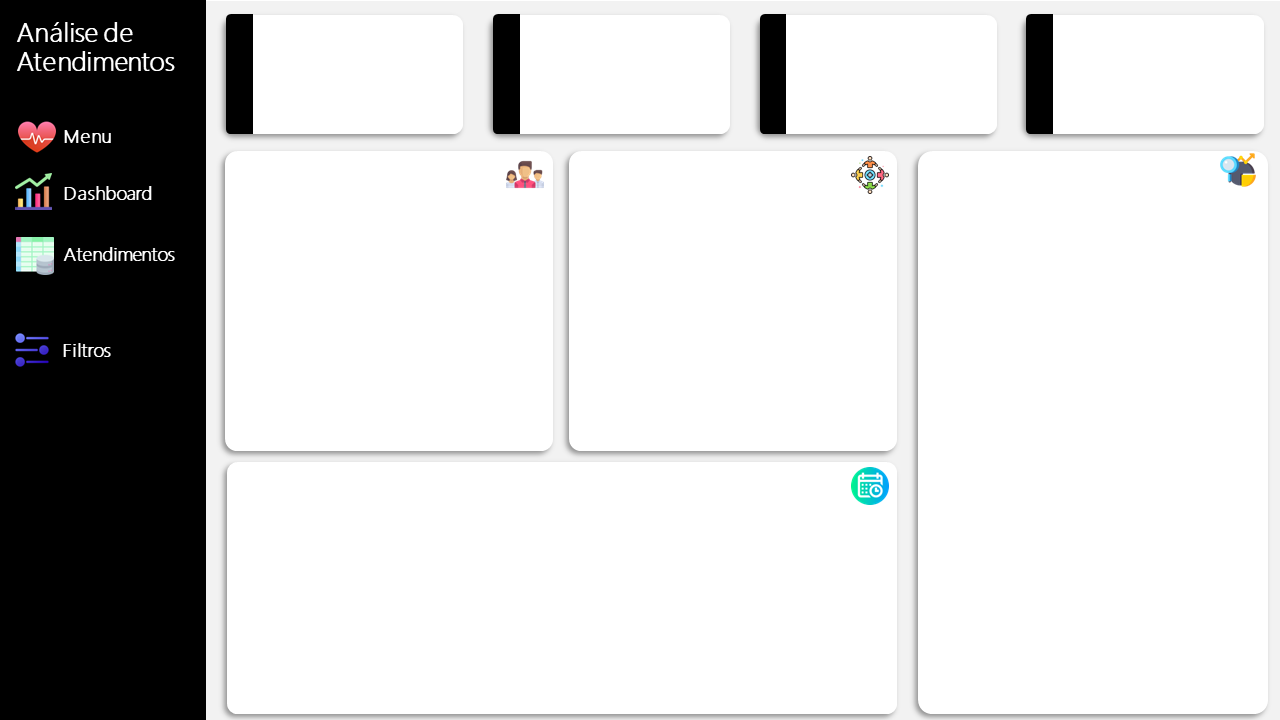

The dashboard page shown, as its layout file describes it:
{"tool":"powerbi","page":{"name":"Dashboards","canvas":[1280,720],"ordinal":1},"visuals":[{"type":"image","box":[15.7,0,1264.3,720],"z":0},{"type":"barChart","title":"Qtde Atendimentos por Médico","fields":{"Y":["Medida.Qtde Atendimentos"],"Category":["Médicos.Nome Médico"],"Series":["Tabela de Valores.Tipo pagamento"]},"box":[240,157.1,318.6,292.9],"z":1000},{"type":"card","title":"Total Atendimentos","fields":{"Values":["Medida.Qtde Atendimentos"]},"box":[264.3,22.9,211.4,117.1],"z":2000},{"type":"barChart","title":"Qtde Atendimentos por Especialidade","fields":{"Y":["Medida.Qtde Atendimentos"],"Category":["Médicos.Especialidade"],"Series":["Tabela de Valores.Tipo pagamento"]},"box":[578.6,157.1,318.6,292.9],"z":3000},{"type":"donutChart","fields":{"Y":["Medida.Qtde Atendimentos"],"Category":["Tabela de Valores.Tipo pagamento"]},"box":[920,154.3,340,271.4],"z":4000},{"type":"donutChart","fields":{"Y":["Medida.Receita Total"],"Category":["Tabela de Valores.Tipo pagamento"]},"box":[920,415.7,340,291.4],"z":5000},{"type":"lineChart","fields":{"Y":["Medida.Qtde Atendimentos"],"Series":["Tabela de Valores.Tipo pagamento"],"Category":["Calendário.Ano","Calendário.Mês"]},"box":[240,462.9,657.1,244.3],"z":6000},{"type":"card","title":"Total Consultas","fields":{"Values":["Medida.Qtde Atendimentos"]},"box":[527.1,22.9,211.4,117.1],"z":7000},{"type":"card","title":"Total Exames","fields":{"Values":["Medida.Qtde Atendimentos"]},"box":[791.4,22.9,211.4,117.1],"z":8000},{"type":"card","title":"Total Retornos","fields":{"Values":["Medida.Qtde Atendimentos"]},"box":[1048.6,22.9,211.4,117.1],"z":9000},{"type":"slicer","fields":{"Values":["Médicos.Nome Médico"]},"box":[15.7,380,208.6,82.9],"z":10000},{"type":"slicer","fields":{"Values":["Atendimentos.Tipo Atendimento"]},"box":[15.7,478.6,208.6,82.9],"z":11000},{"type":"slicer","fields":{"Values":["Calendário.Ano","Calendário.Mês"]},"box":[15.7,585.7,208.6,82.9],"z":12000},{"type":"actionButton","box":[25.7,118.6,198.6,48.6],"z":13000},{"type":"actionButton","box":[20,167.1,198.6,48.6],"z":14000},{"type":"actionButton","box":[25.7,231.4,198.6,48.6],"z":14001}]}

Visuals, with their boxes on the page's 1280x720 design canvas (x1, y1, x2, y2). These are canvas units, not pixel positions in the 1280x720 screenshot, which may show the page scaled, cropped or inside an application window:
image: (16,0,1280,720)
"Qtde Atendimentos por Médico" barChart: (240,157,559,450)
"Total Atendimentos" card: (264,23,476,140)
"Qtde Atendimentos por Especialidade" barChart: (579,157,897,450)
donutChart - Medida.Qtde Atendimentos x Tabela de Valores.Tipo pagamento: (920,154,1260,426)
donutChart - Medida.Receita Total x Tabela de Valores.Tipo pagamento: (920,416,1260,707)
lineChart - Medida.Qtde Atendimentos x Tabela de Valores.Tipo pagamento: (240,463,897,707)
"Total Consultas" card: (527,23,738,140)
"Total Exames" card: (791,23,1003,140)
"Total Retornos" card: (1049,23,1260,140)
slicer - Médicos.Nome Médico: (16,380,224,463)
slicer - Atendimentos.Tipo Atendimento: (16,479,224,562)
slicer - Calendário.Ano x Calendário.Mês: (16,586,224,669)
actionButton: (26,119,224,167)
actionButton: (20,167,219,216)
actionButton: (26,231,224,280)
